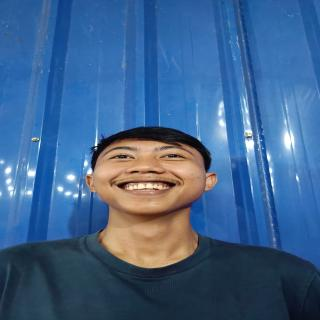Senang: (87, 134, 210, 217)
